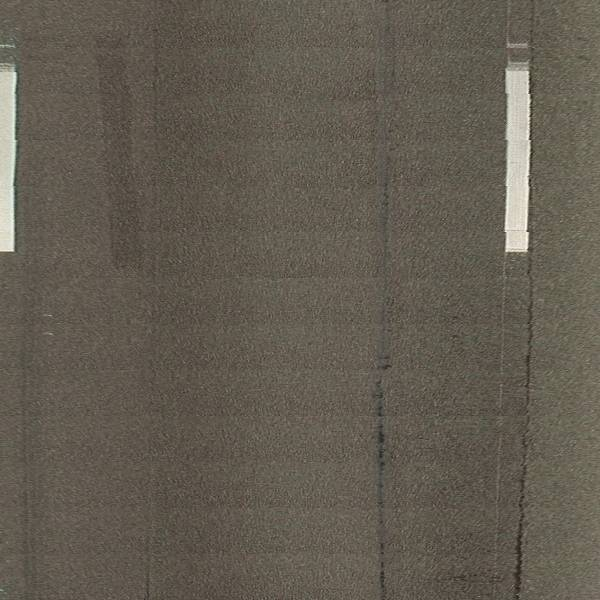road_damage: (513, 282, 539, 600), (368, 355, 395, 600)
